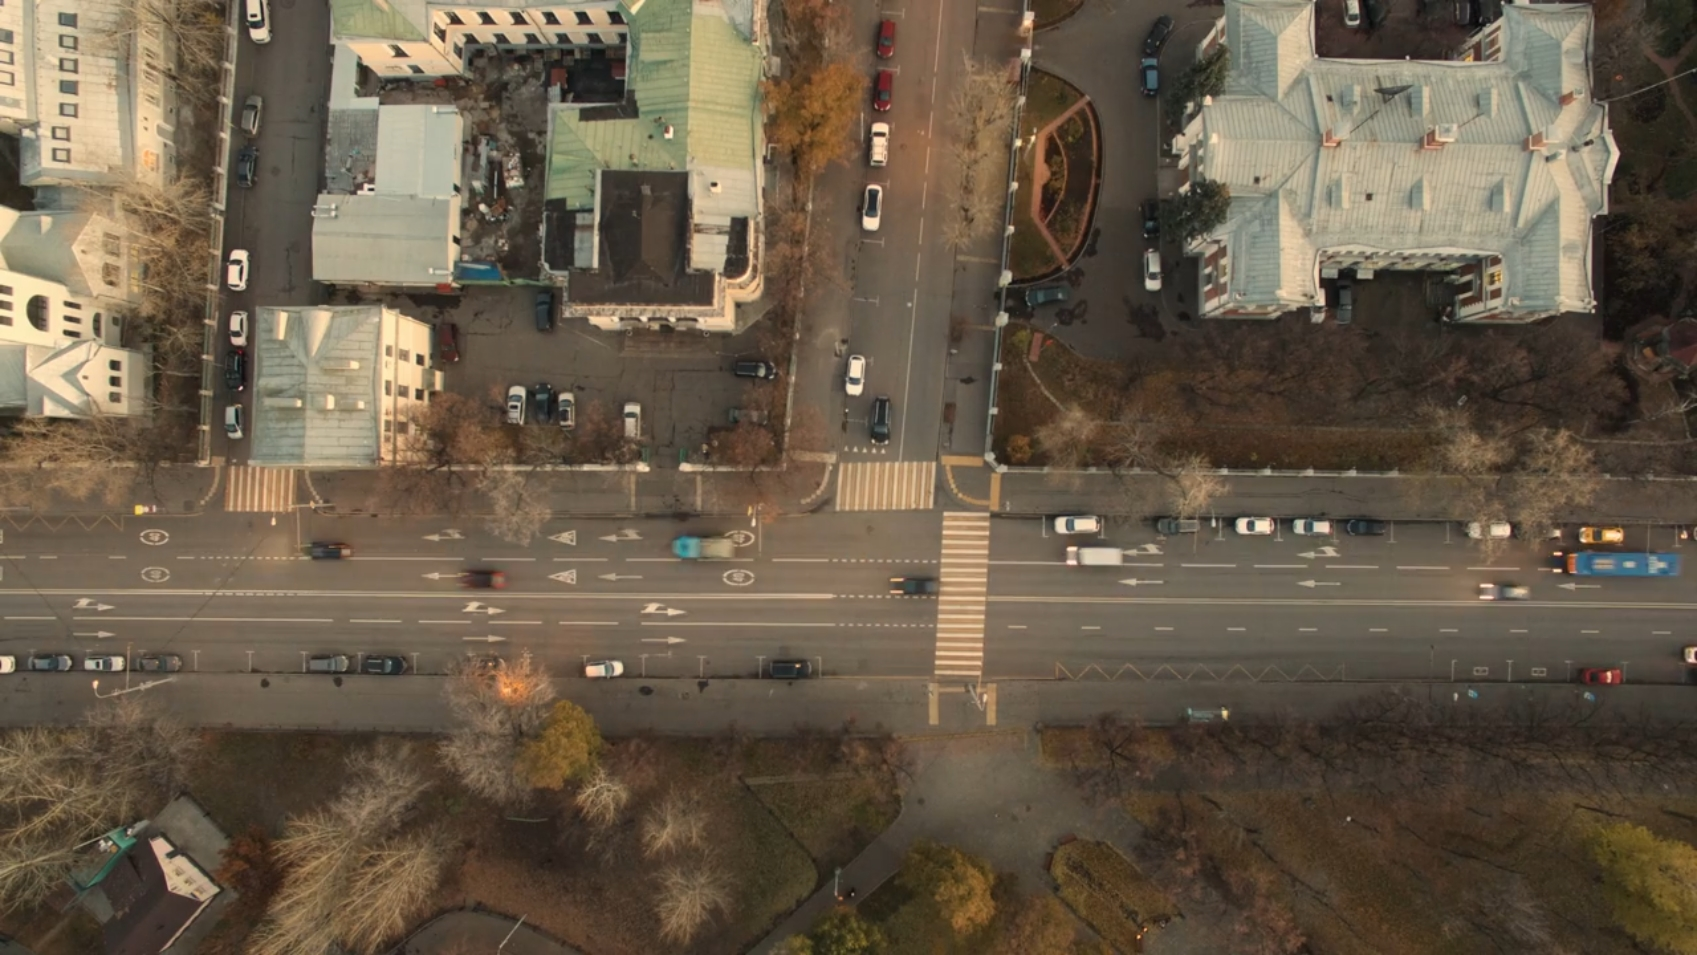car: (1552, 552, 1683, 580), (671, 538, 735, 560), (244, 1, 274, 45), (1478, 582, 1535, 605), (871, 395, 894, 451), (889, 575, 944, 598), (1052, 514, 1104, 539), (1066, 545, 1126, 566), (1021, 285, 1071, 309), (223, 349, 248, 396), (1143, 14, 1173, 55), (307, 542, 359, 564), (438, 322, 465, 365), (457, 568, 506, 591), (238, 94, 262, 141), (862, 182, 885, 233), (1138, 198, 1164, 240), (364, 654, 411, 677), (871, 70, 895, 115), (504, 384, 530, 424), (1466, 517, 1513, 540), (29, 651, 73, 675), (135, 655, 186, 676), (731, 360, 779, 382), (224, 400, 248, 442), (1290, 515, 1332, 540), (1576, 524, 1625, 545), (727, 406, 770, 429), (845, 351, 866, 398), (237, 143, 258, 190), (1141, 250, 1166, 289), (770, 659, 816, 680), (80, 653, 131, 672), (1335, 279, 1354, 325), (228, 248, 249, 292), (625, 401, 645, 447), (1345, 517, 1390, 536), (1235, 515, 1275, 538), (1155, 517, 1202, 535), (309, 655, 350, 676), (585, 656, 626, 677), (535, 290, 555, 333), (1578, 667, 1624, 684), (871, 122, 888, 167), (230, 310, 249, 349), (1139, 58, 1157, 99), (535, 382, 552, 426), (878, 17, 895, 58), (559, 392, 577, 431), (1339, 1, 1361, 30), (1523, 525, 1559, 542), (1312, 285, 1325, 326), (1, 653, 20, 677), (1684, 646, 1697, 662)
